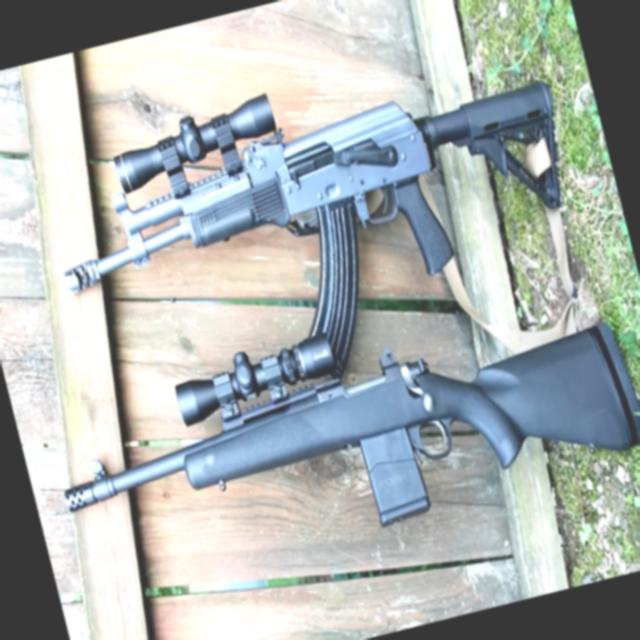rifle: (36, 249, 640, 606)
